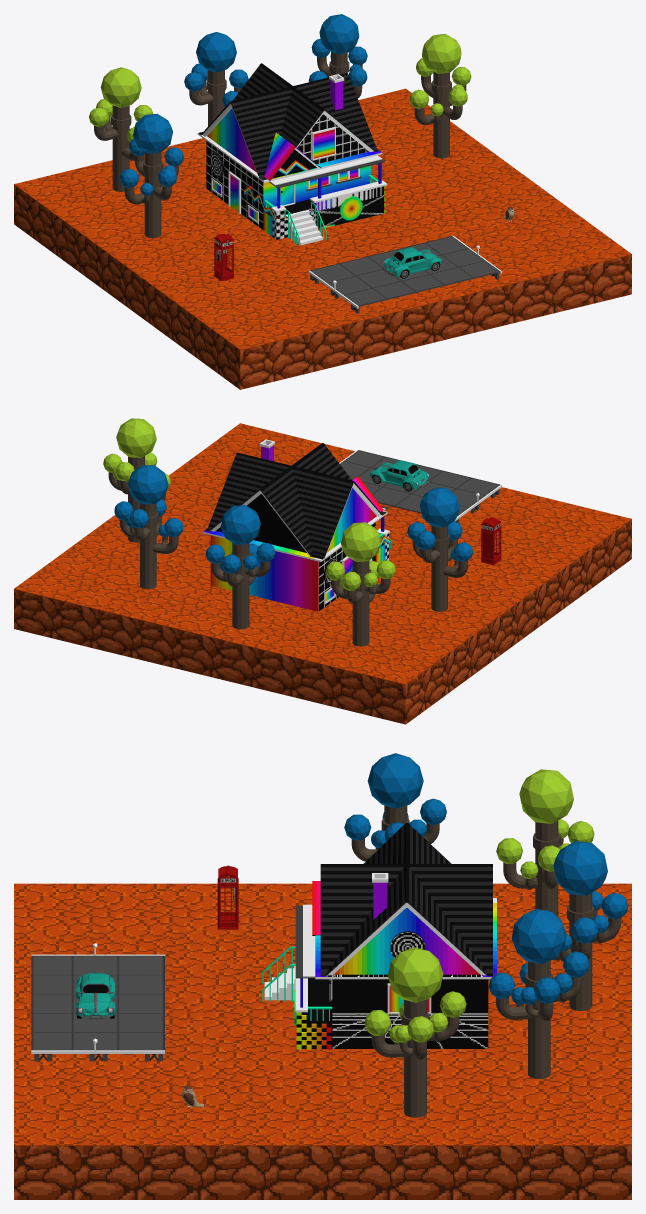
The picture shows the model from 3 angles, top to bottom: view 1: azimuth 30°, elevation 25°; view 2: azimuth 150°, elevation 25°; view 3: azimuth 270°, elevation 25°; orthographic projection. The views are drawn at different scales.
Visible parts, largest first — view 1: Cube.001, Cube.1320, VEHICLES_VOLKSWAGEN, OBJRANDOM_PHONEBOOTH; view 2: Cube.001, Cube.1320, VEHICLES_VOLKSWAGEN, OBJRANDOM_PHONEBOOTH; view 3: Cube.001, Cube.1320, VEHICLES_VOLKSWAGEN, OBJRANDOM_PHONEBOOTH.
Part boxes in pixels (<box>): Cube.001: <box>14,14,631,389</box>; Cube.1320: <box>197,63,387,246</box>; VEHICLES_VOLKSWAGEN: <box>382,247,442,278</box>; OBJRANDOM_PHONEBOOTH: <box>213,234,233,281</box>; Cube.001: <box>14,418,631,724</box>; Cube.1320: <box>202,439,391,611</box>; VEHICLES_VOLKSWAGEN: <box>370,460,429,491</box>; OBJRANDOM_PHONEBOOTH: <box>481,517,501,565</box>; Cube.001: <box>14,753,631,1199</box>; Cube.1320: <box>262,823,496,1049</box>; VEHICLES_VOLKSWAGEN: <box>76,973,115,1019</box>; OBJRANDOM_PHONEBOOTH: <box>217,865,238,929</box>.
Size of the model in its own units: 4000 by 1672 by 4000.
Materials: 37 (6 with a texture image).
